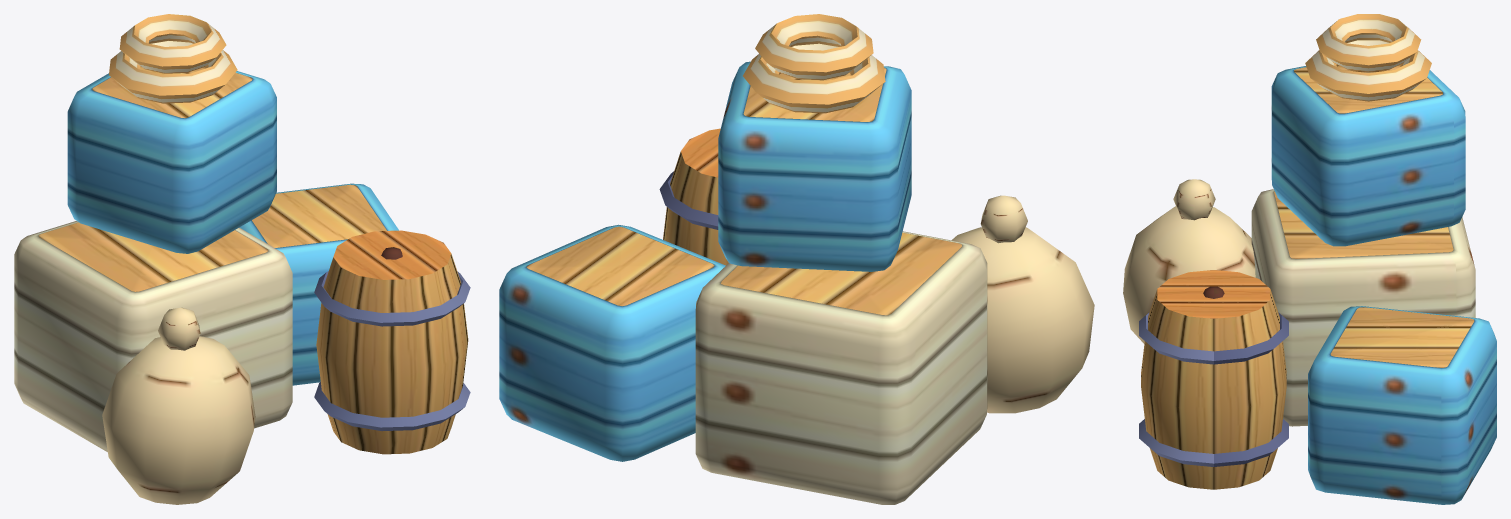
The model's file is crate_stack.glb.
3 renders of one model, left to right at view 1: azimuth 30°, elevation 25°; view 2: azimuth 150°, elevation 25°; view 3: azimuth 270°, elevation 25°, orthographic. The views are drawn at different scales.
Visible parts, largest first — view 1: crate_stack; view 2: crate_stack; view 3: crate_stack.
Boxes of the visible parts, x1,y1,x2,y2 form: crate_stack: (14, 14, 470, 504); crate_stack: (499, 14, 1094, 504); crate_stack: (1123, 14, 1496, 504).
Bounding box in the file's own units: 1.84 × 1.72 × 1.55.
Materials: 3 (3 with a texture image).
